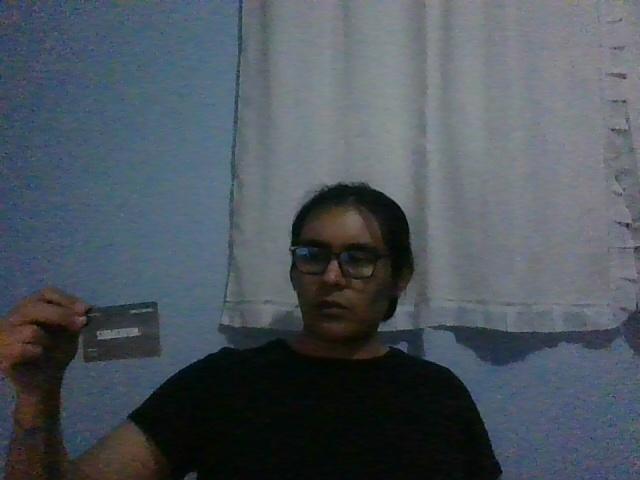tarjeta: (80, 301, 161, 363)
